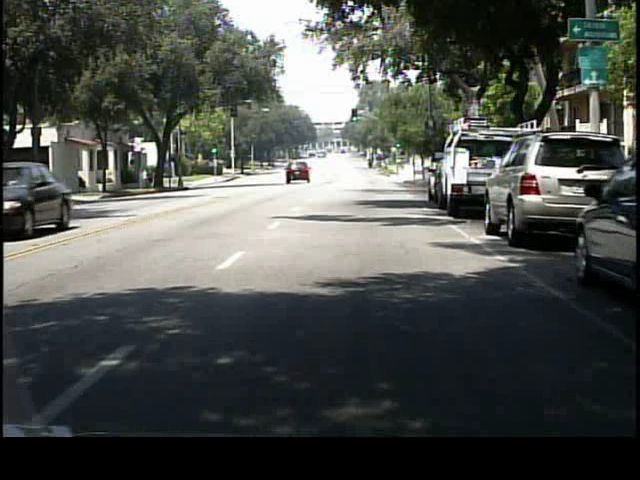person: (143, 168, 151, 190)
